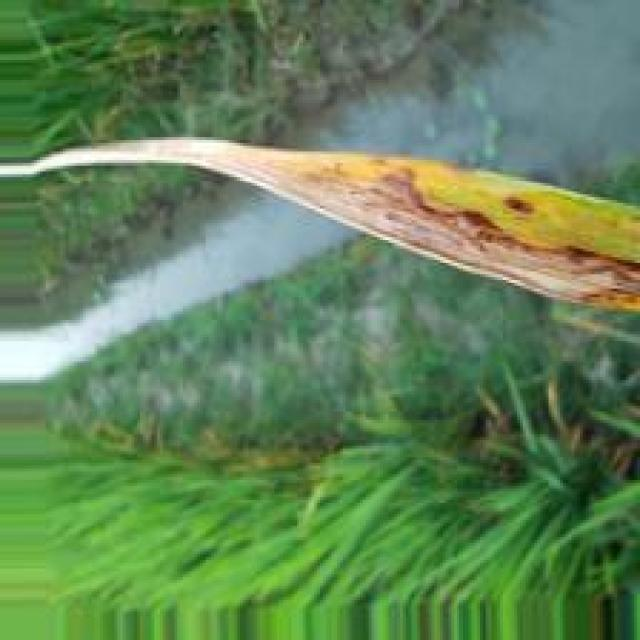Rice False Smut: (166, 140, 640, 306), (494, 193, 539, 218)
